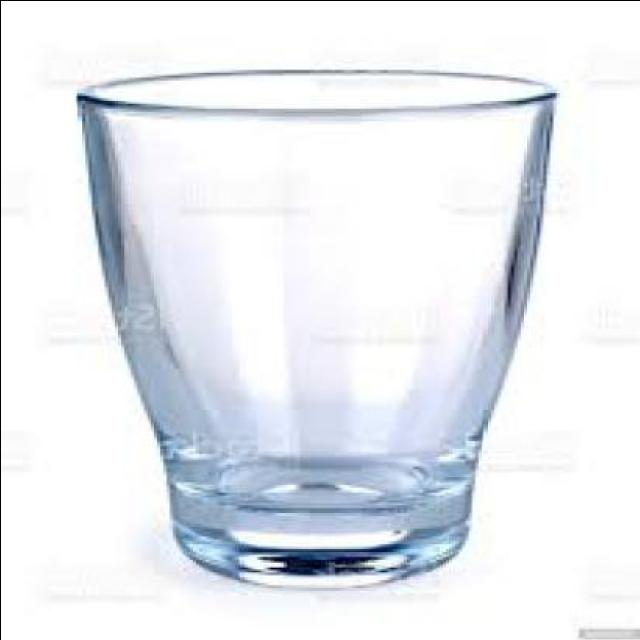kaca: (78, 67, 559, 582)
